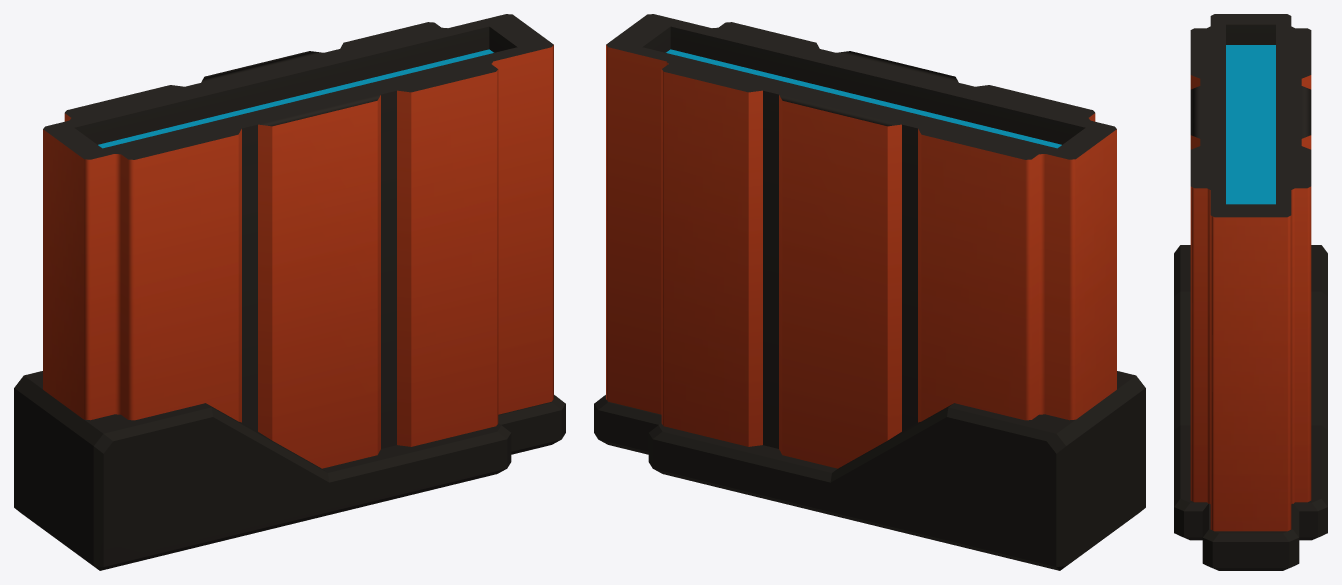
The model's file is Shotgun1_Magazine.fbx.
The picture shows the model from 3 angles, left to right: view 1: azimuth 30°, elevation 25°; view 2: azimuth 150°, elevation 25°; view 3: azimuth 270°, elevation 25°; orthographic projection. The views are drawn at different scales.
Visible parts, largest first — view 1: Shotgun1_Magazine; view 2: Shotgun1_Magazine; view 3: Shotgun1_Magazine.
Part boxes in pixels (left/top/right/bottom): Shotgun1_Magazine: left=14, top=14, right=565, bottom=570; Shotgun1_Magazine: left=594, top=14, right=1145, bottom=570; Shotgun1_Magazine: left=1174, top=14, right=1327, bottom=570.
Size of the model in its own units: 11.38 by 8.8 by 3.49.
